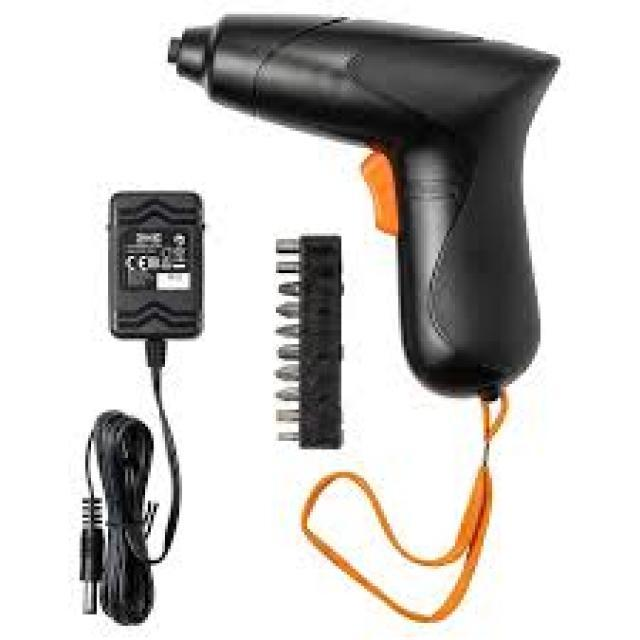drill: (165, 11, 610, 420)
